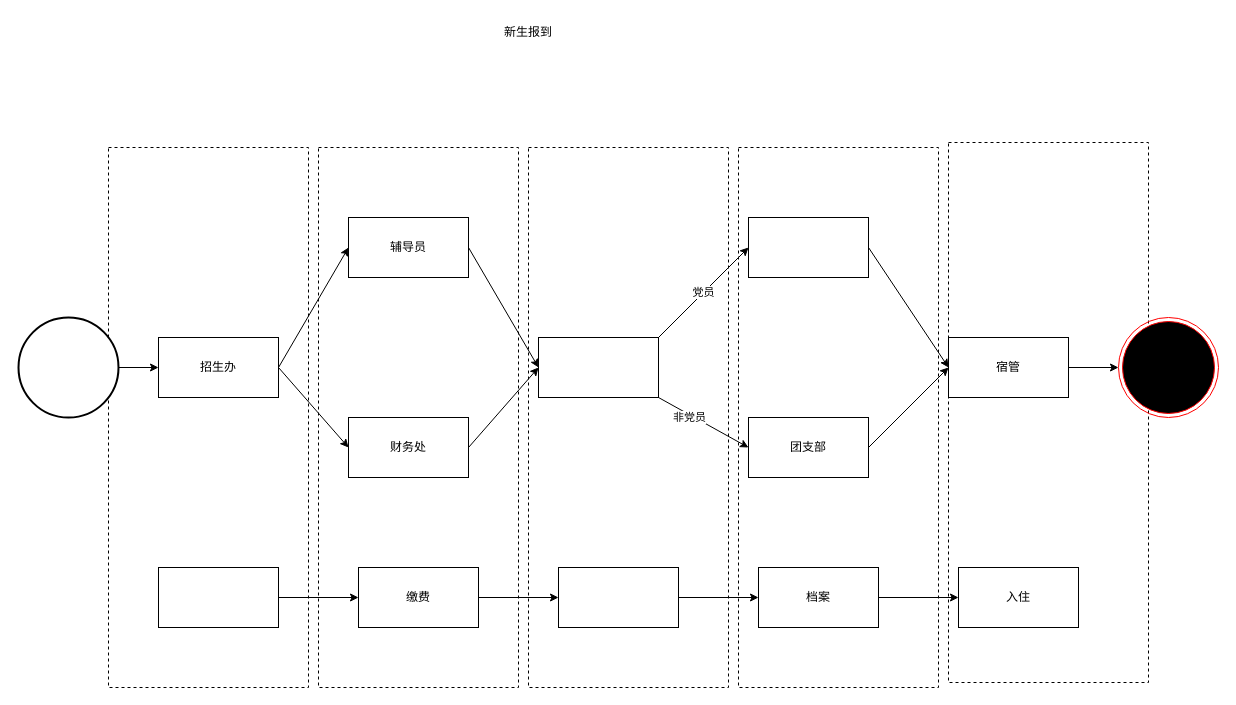
The diagram is 1236 pixels wide and 705 high, and some of its shapes have lost their labels. The centre of each missing label's shape, as x and y in pixels:
"党支部" goes at pixel 808 247.
"入学资格" goes at pixel 218 597.
"学历审核" goes at pixel 618 597.
"导师" goes at pixel 598 367.
